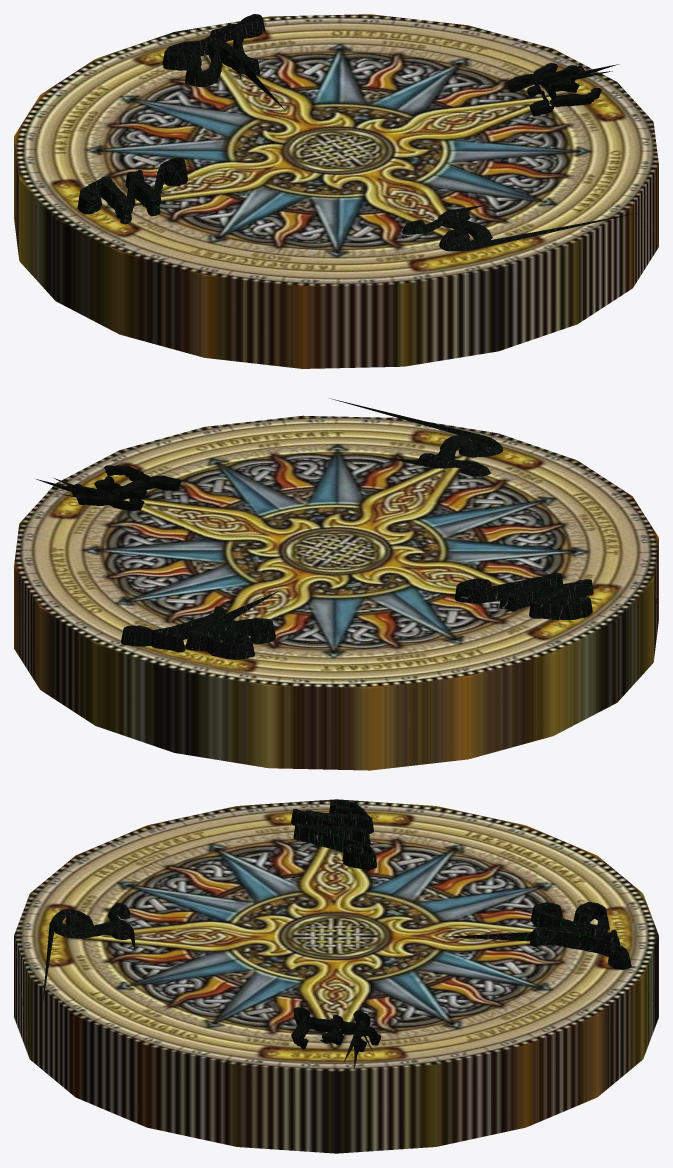
The model's file is CompassMiddle.FBX.
3 views of the same model, one above another, from view 1: azimuth 30°, elevation 25°; view 2: azimuth 150°, elevation 25°; view 3: azimuth 270°, elevation 25° (orthographic).
Parts seen in each view (by area): view 1: Spindle001; view 2: Spindle001; view 3: Spindle001.
Part boxes in pixels (bbox=[...]): Spindle001: bbox=[14, 14, 658, 368]; Spindle001: bbox=[14, 398, 658, 770]; Spindle001: bbox=[14, 799, 658, 1153].
Size of the model in its own units: 20.64 by 3.28 by 20.19.
Materials: 5 (5 with a texture image).
